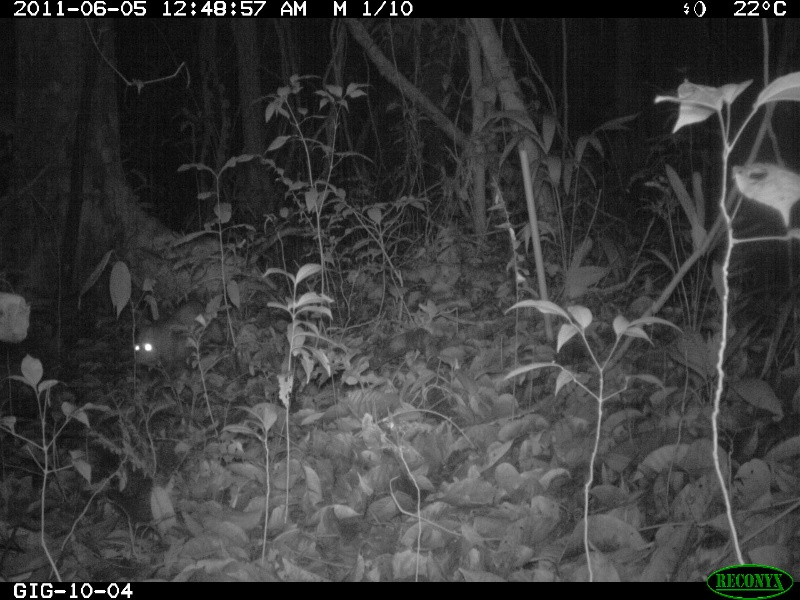opossum: (129, 282, 234, 374)
